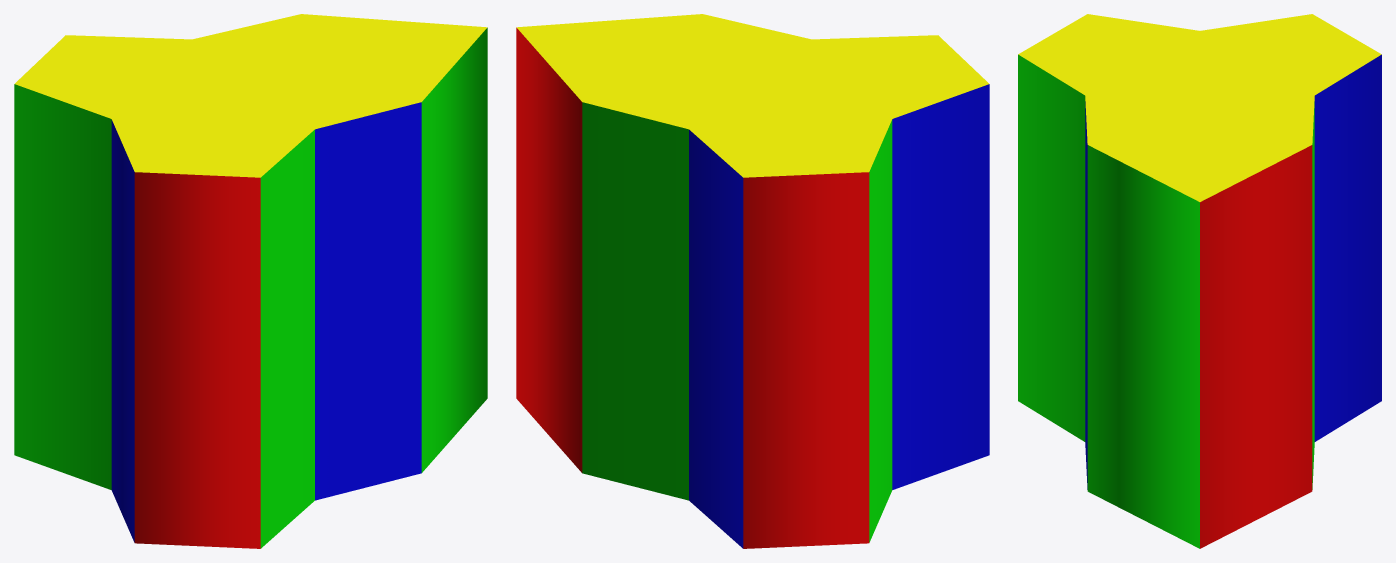
The model's file is 10prism_final.DAE.
3 views of the same model, side by side, from view 1: azimuth 30°, elevation 25°; view 2: azimuth 150°, elevation 25°; view 3: azimuth 270°, elevation 25° (orthographic). The views are drawn at different scales.
Visible parts, largest first — view 1: Cylinder002; view 2: Cylinder002; view 3: Cylinder002.
Boxes of the visible parts, x1=… form: Cylinder002: x1=14, y1=14, x2=487, y2=548; Cylinder002: x1=516, y1=14, x2=989, y2=548; Cylinder002: x1=1018, y1=14, x2=1381, y2=548.
Bounding box in the file's own units: 582 × 476 × 500.
